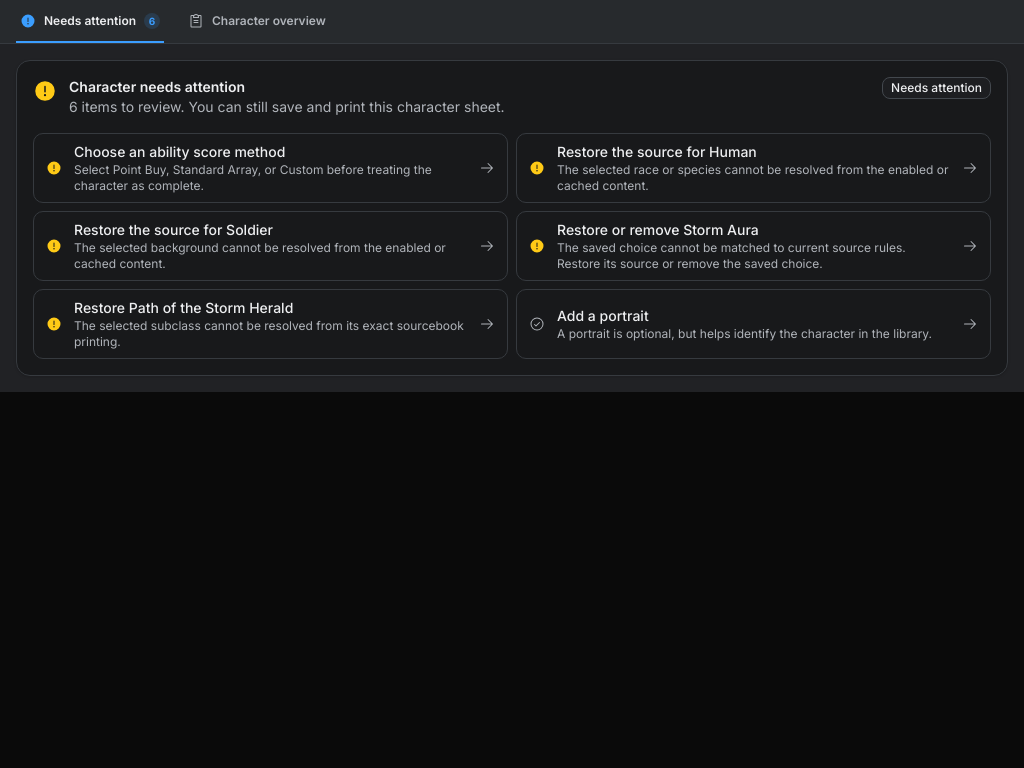
Test case: missing entire subclass catalog keeps shared recovery and safe Clear
This screenshot has width=1024, height=768.
Click the button "Restore or remove Storm Aura": (754, 246) [516, 211, 991, 281]
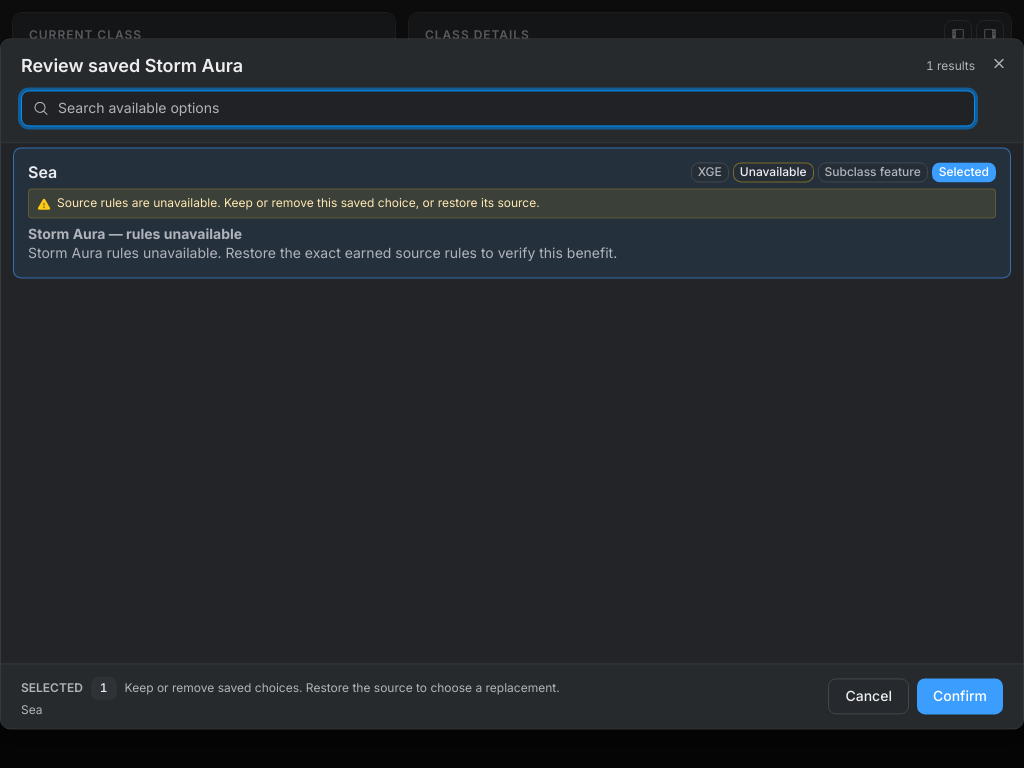
Result: the dialog is shown
Result: the heading "Review saved Storm Aura" is shown at [21, 55, 243, 78]
Click the button "Confirm": (960, 697) [917, 679, 1003, 715]
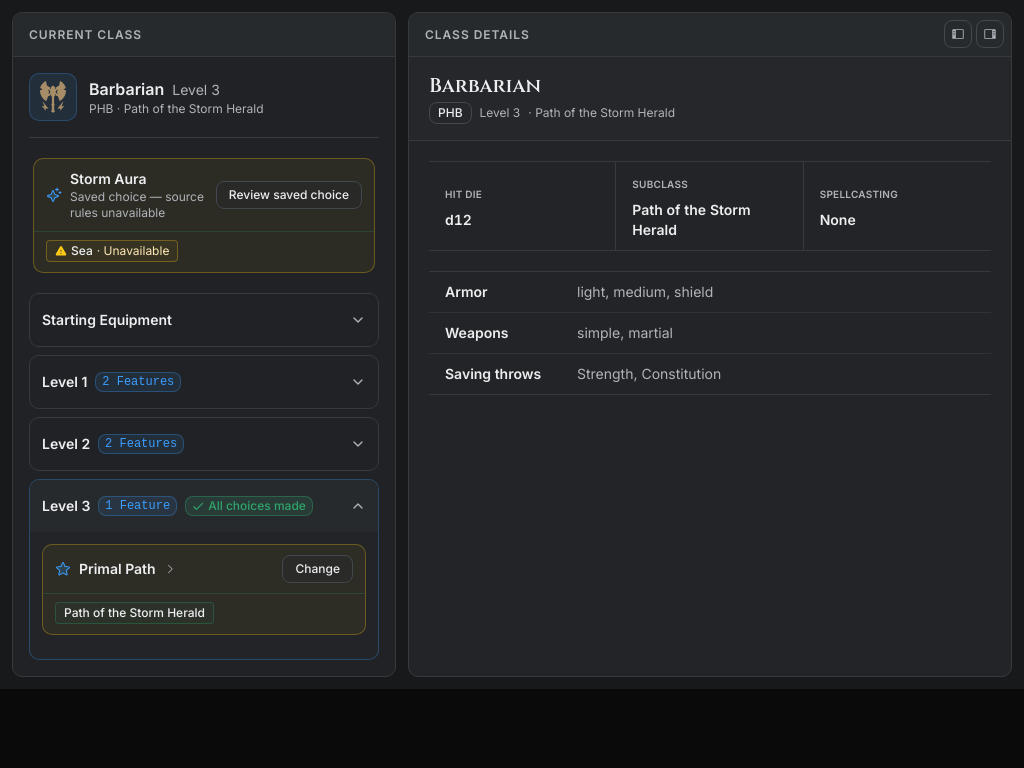
Result: the dialog is gone
Click the button "Review saved choice": (289, 195) [216, 181, 362, 209]
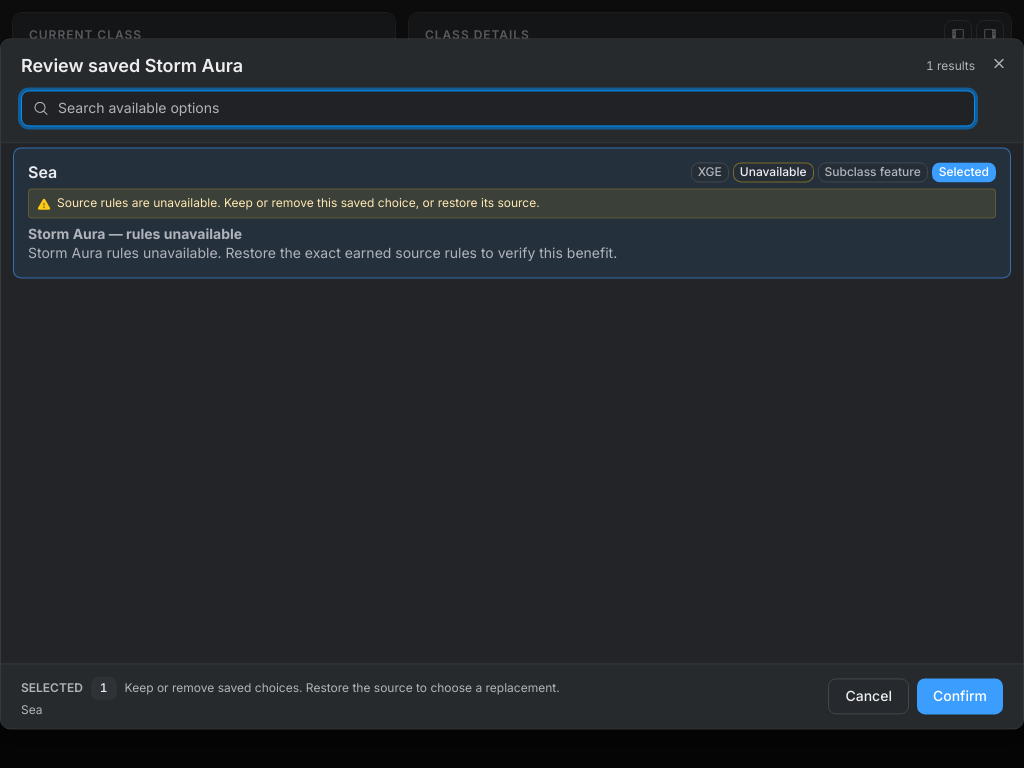
Result: the dialog is shown
In the field with placeholder "Search available options": (498, 108) [21, 90, 975, 126], type "Sea"
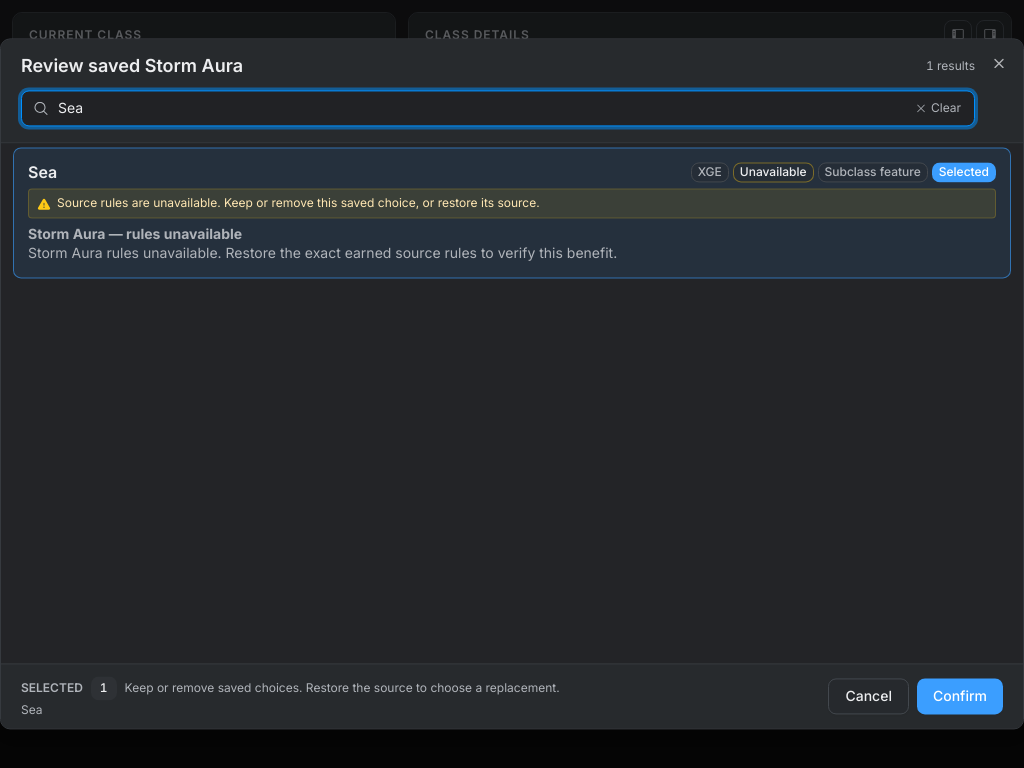
Click the button that starts with "Sea": (512, 212) [13, 147, 1011, 278]
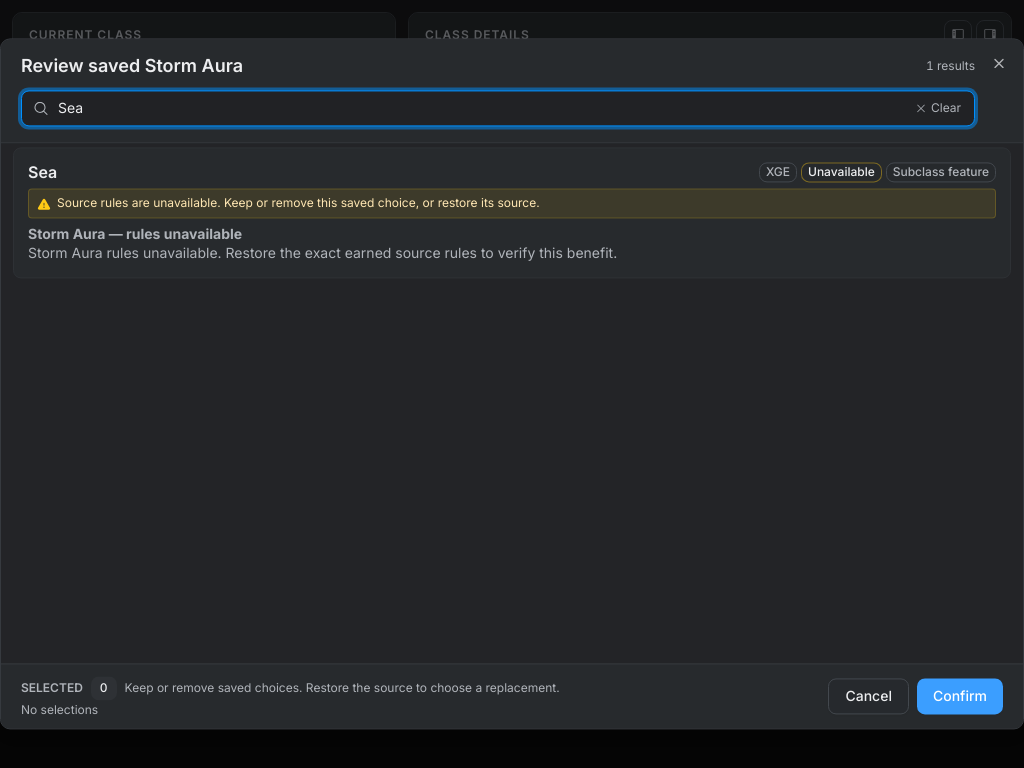
Click the button "Confirm": (960, 697) [917, 679, 1003, 715]
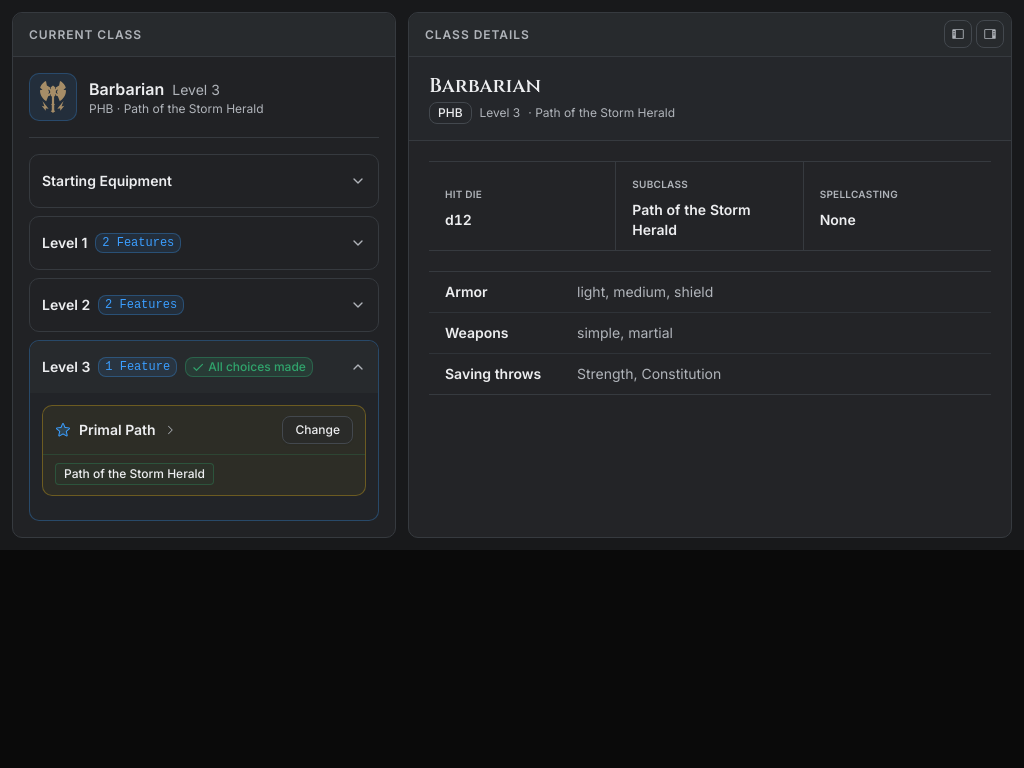
Result: the dialog is gone
